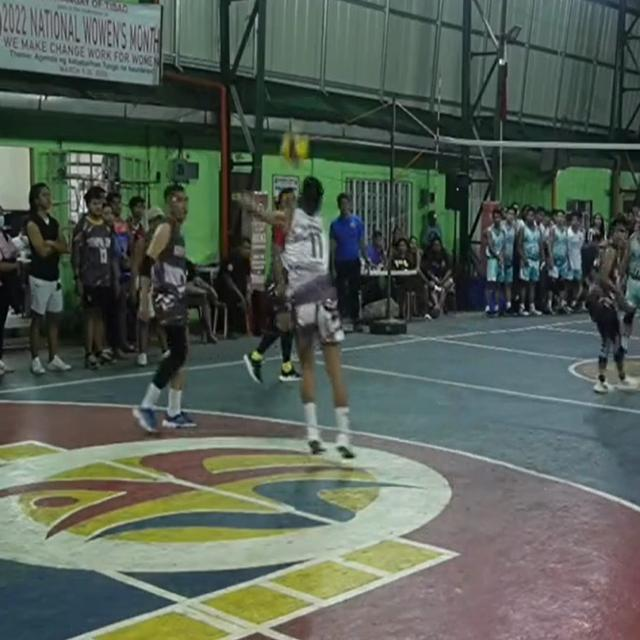volleyball: (282, 130, 311, 168)
